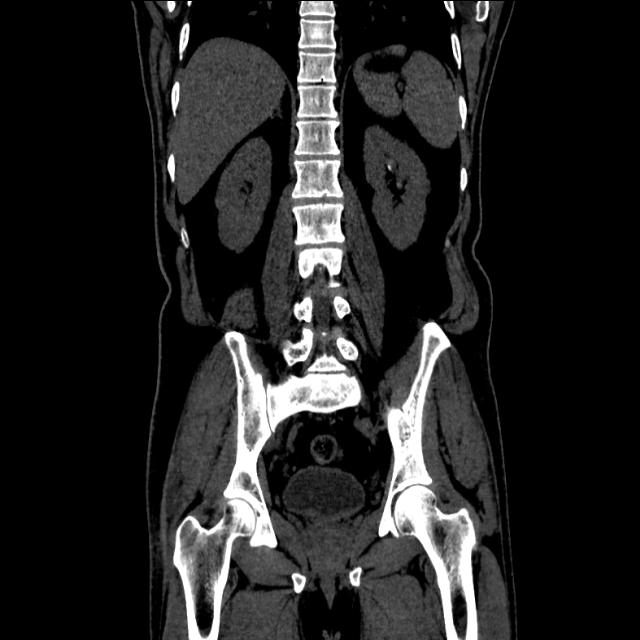kidney: (365, 130, 429, 243), (227, 144, 270, 242)
stone: (387, 166, 392, 172)
